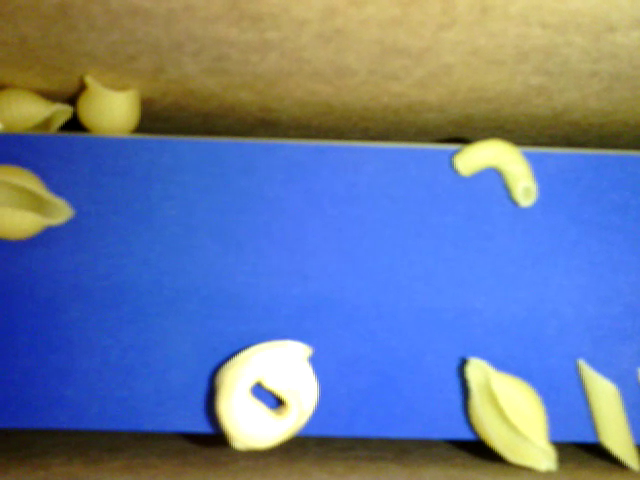elbow: (456, 139, 538, 208)
penne: (575, 353, 639, 473)
shell: (461, 352, 555, 472), (1, 161, 76, 242), (74, 73, 144, 136), (1, 88, 75, 134)
tortellini: (205, 336, 322, 453)
